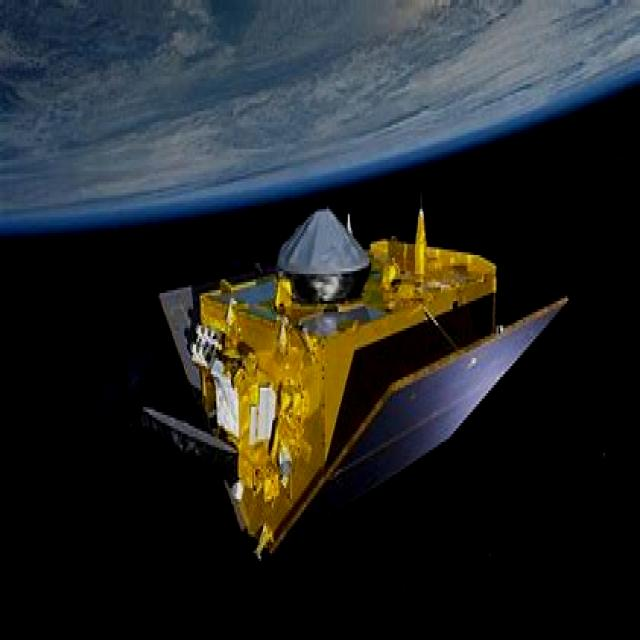satellite: (107, 184, 580, 563)
